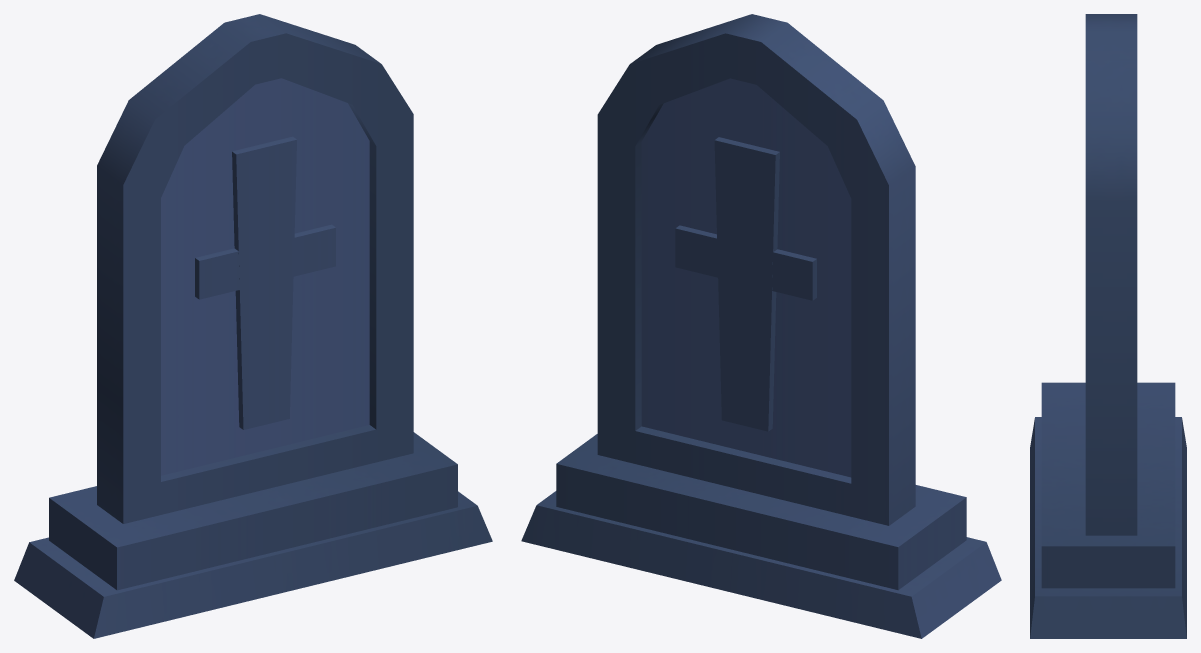
The model's file is MSH_Tumba_1.fbx.
The picture shows the model from 3 angles, left to right: view 1: azimuth 30°, elevation 25°; view 2: azimuth 150°, elevation 25°; view 3: azimuth 270°, elevation 25°; orthographic projection. The views are drawn at different scales.
Visible parts, largest first — view 1: Box077; view 2: Box077; view 3: Box077.
Boxes of the visible parts, x1,y1,x2,y2 form: Box077: (14, 14, 492, 638); Box077: (521, 14, 1001, 638); Box077: (1030, 14, 1186, 638).
Bounding box in the file's own units: 28.69 × 36.48 × 9.93.
